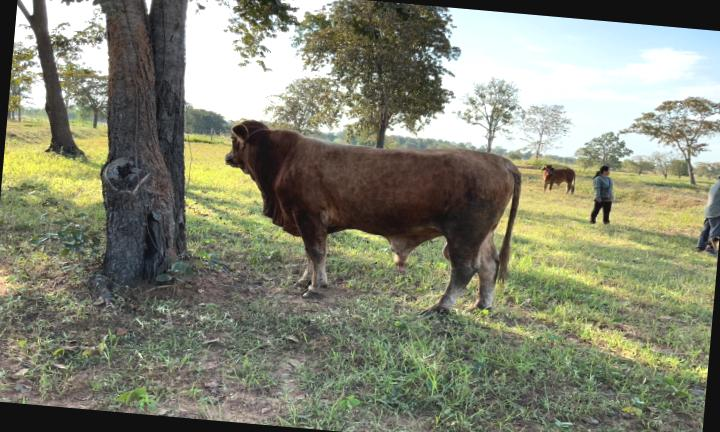Charolais: (226, 120, 520, 312)
